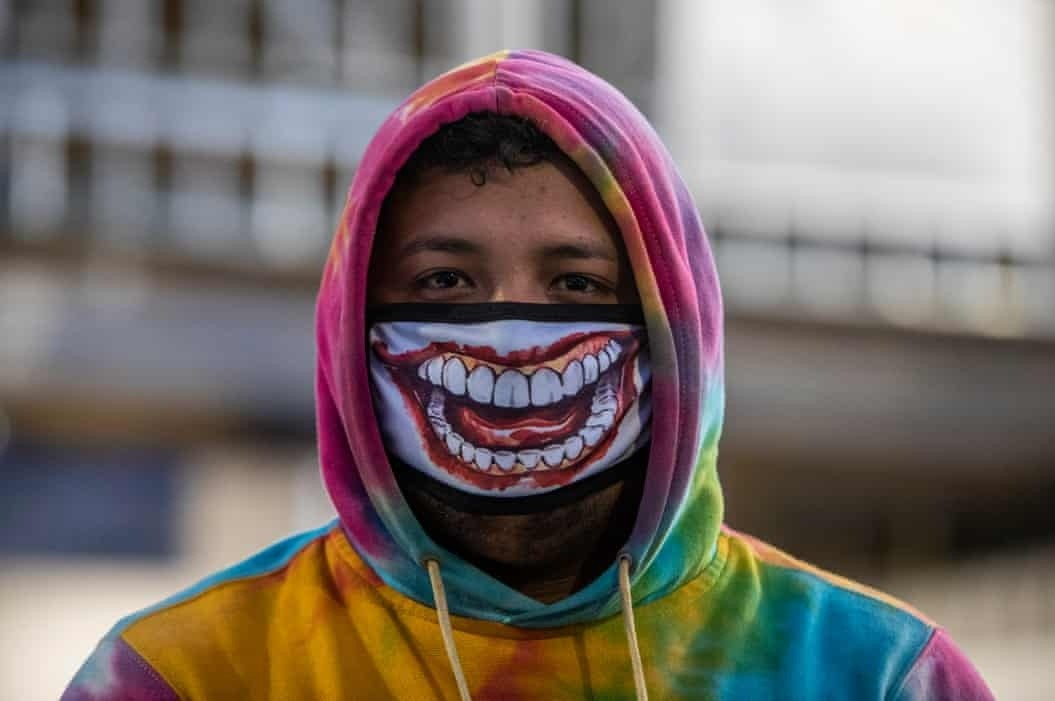face_with_mask: (339, 79, 684, 521)
